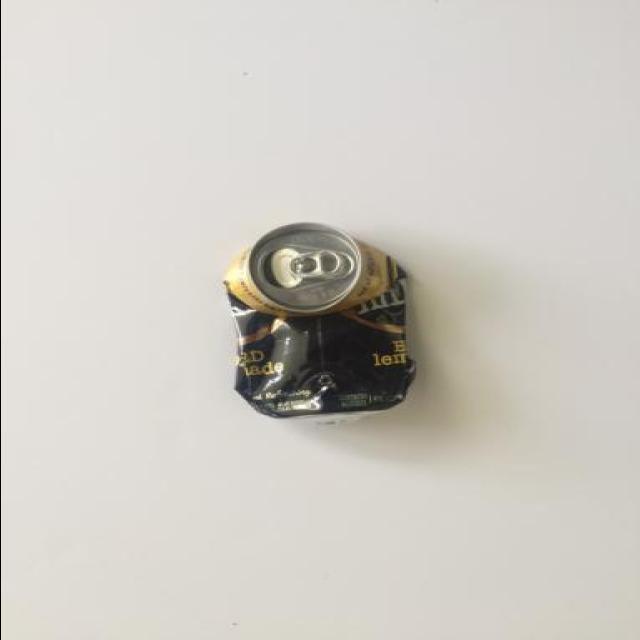Aluminum Can: (194, 205, 432, 450)
